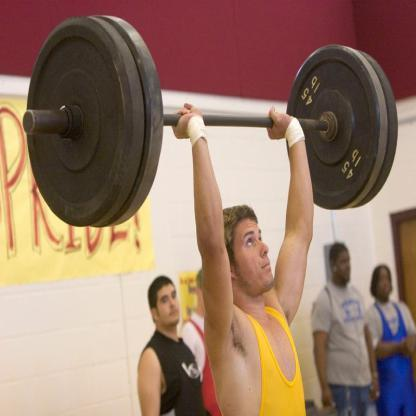barbell: (24, 15, 400, 229)
